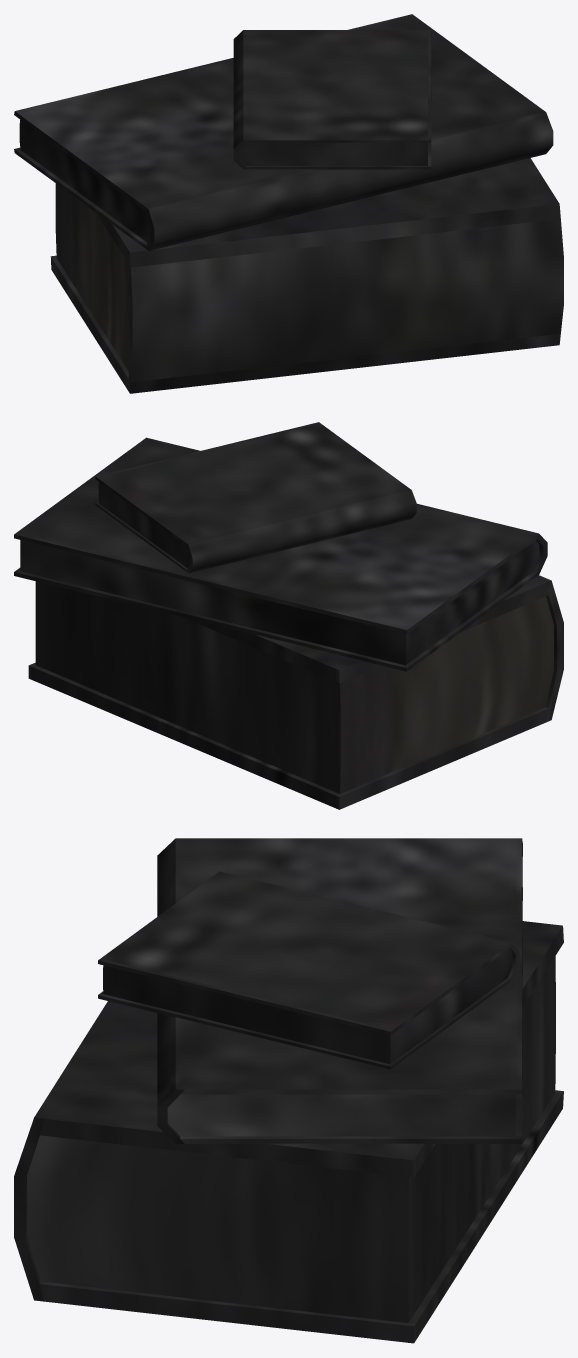
Rendered from SM_Books_09.fbx.
The picture shows the model from 3 angles, top to bottom: view 1: azimuth 30°, elevation 25°; view 2: azimuth 150°, elevation 25°; view 3: azimuth 270°, elevation 25°; orthographic projection. The views are drawn at different scales.
Visible parts, largest first — view 1: SM_Books_09; view 2: SM_Books_09; view 3: SM_Books_09.
Boxes of the visible parts, x1=… form: SM_Books_09: x1=14, y1=14, x2=563, y2=393; SM_Books_09: x1=14, y1=422, x2=563, y2=809; SM_Books_09: x1=14, y1=838, x2=563, y2=1343.
Bounding box in the file's own units: 30.65 × 25.34 × 13.96.
